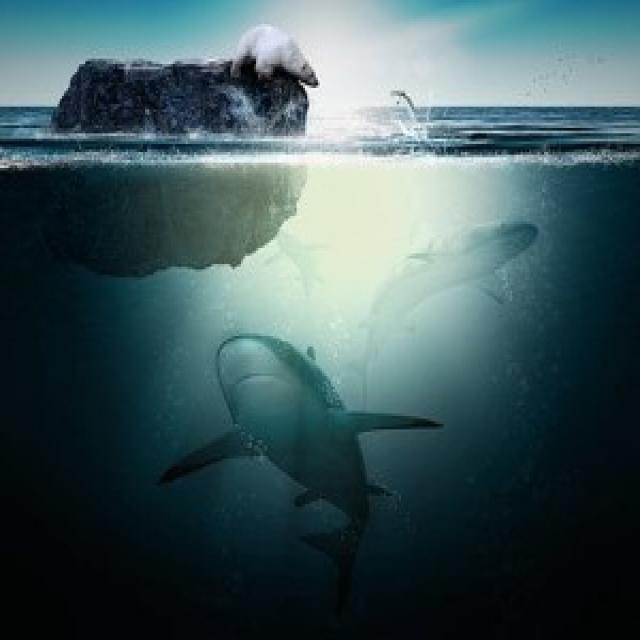Shark: (150, 311, 442, 566), (348, 200, 553, 399)
